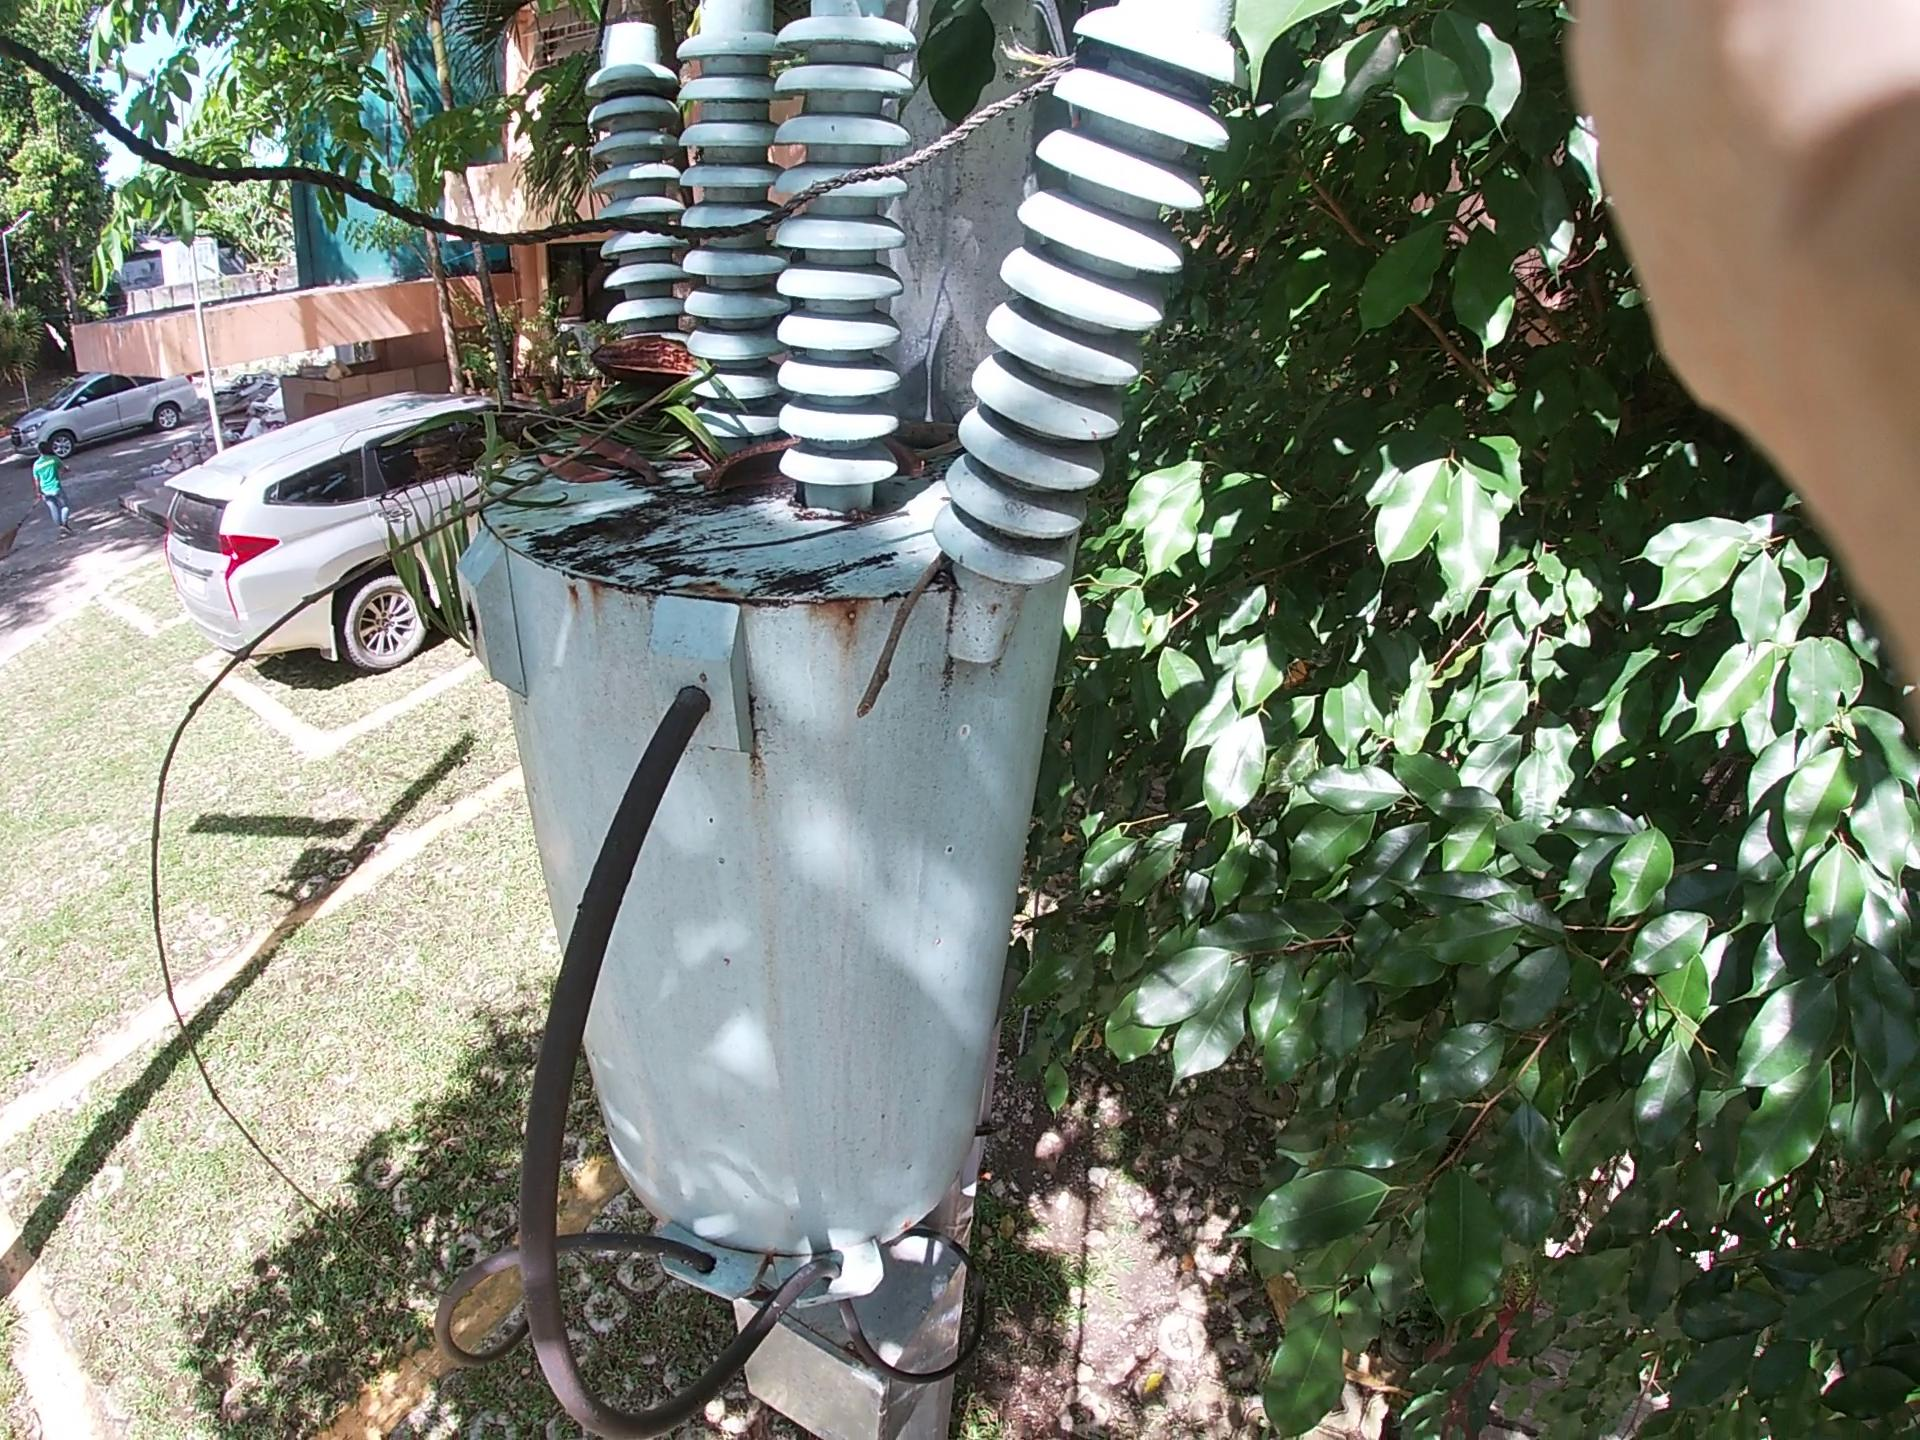branch with leaves: (337, 224, 1048, 641)
leaf: (534, 414, 726, 535)
mahogany fruit: (692, 413, 881, 507), (574, 290, 697, 414)
tree branch: (51, 351, 721, 939), (835, 436, 1042, 737)
